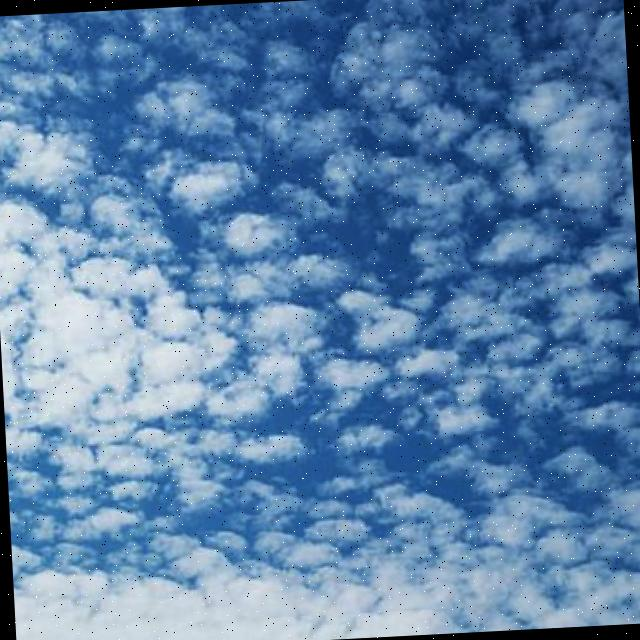Cc: (1, 1, 640, 619)
